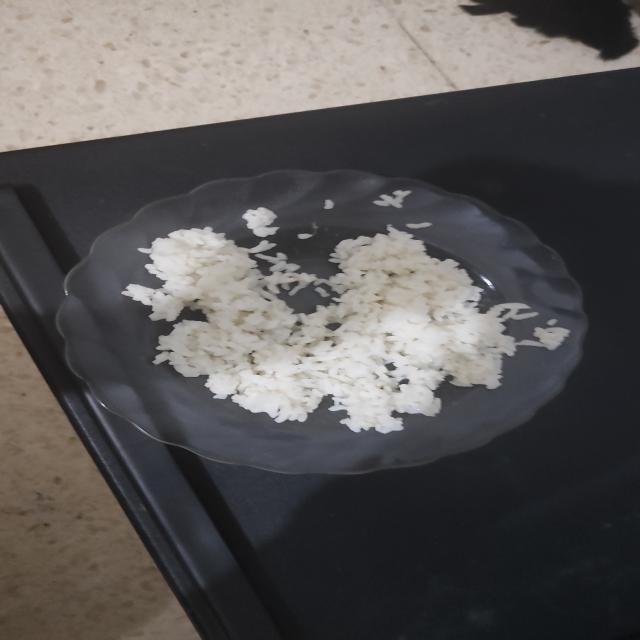nasi_putih: (122, 207, 521, 433)
